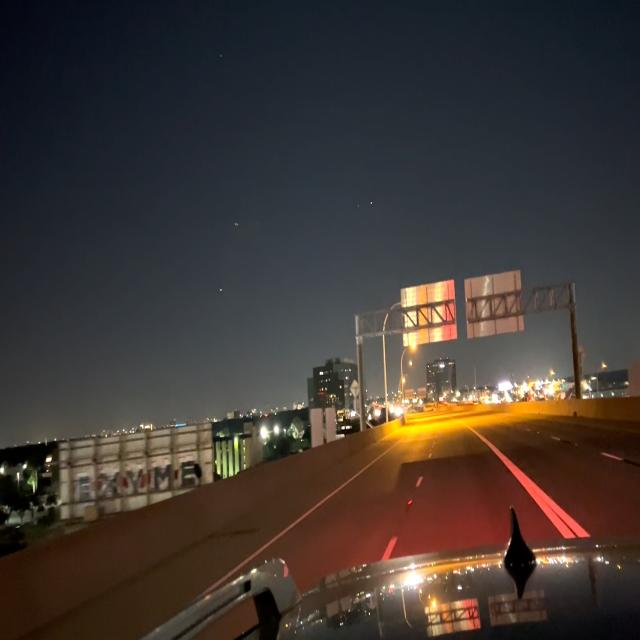back-of-sign: (469, 267, 527, 346), (402, 279, 458, 349)
